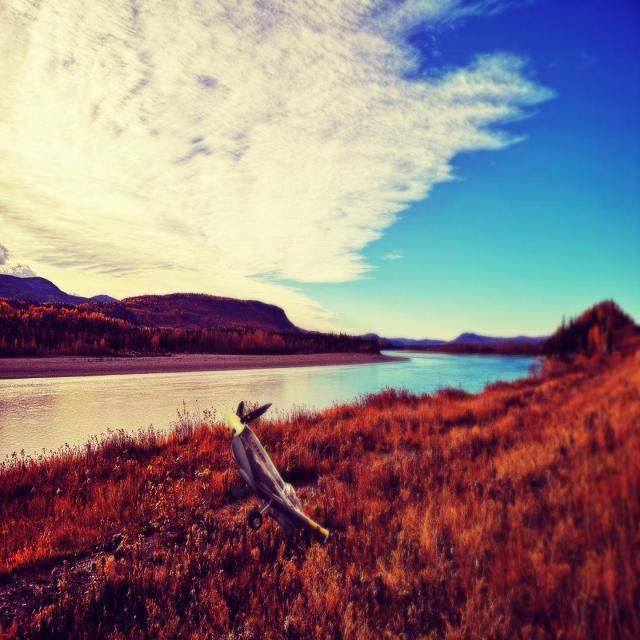airplane: (224, 400, 330, 545)
